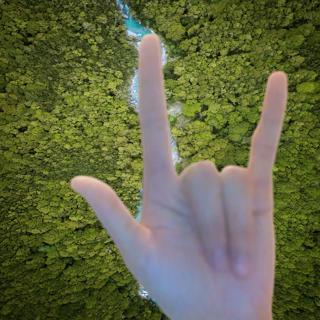ILY: (62, 28, 299, 320)
